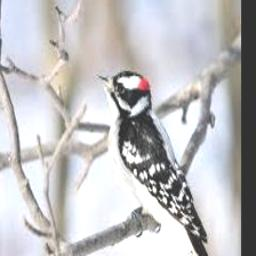Woodpecker: (95, 71, 218, 256)
